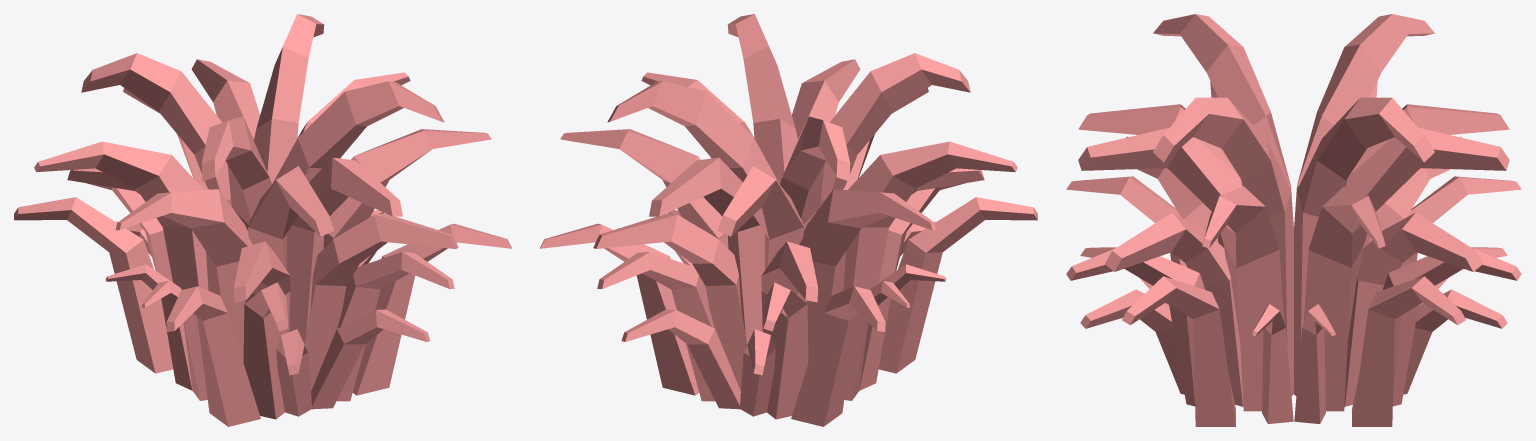
The model's file is Anemone.glb.
3 views of the same model, side by side, from view 1: azimuth 30°, elevation 25°; view 2: azimuth 150°, elevation 25°; view 3: azimuth 270°, elevation 25° (orthographic). The views are drawn at different scales.
Visible parts, largest first — view 1: Cube.004_Cube.011; view 2: Cube.004_Cube.011; view 3: Cube.004_Cube.011.
Boxes of the visible parts, left/top/right/bottom form: Cube.004_Cube.011: left=14, top=14, right=511, bottom=426; Cube.004_Cube.011: left=540, top=14, right=1037, bottom=426; Cube.004_Cube.011: left=1066, top=14, right=1521, bottom=426.
Size of the model in its own units: 2.46 by 1.92 by 2.42.
Materials: 1 (1 with a texture image).
